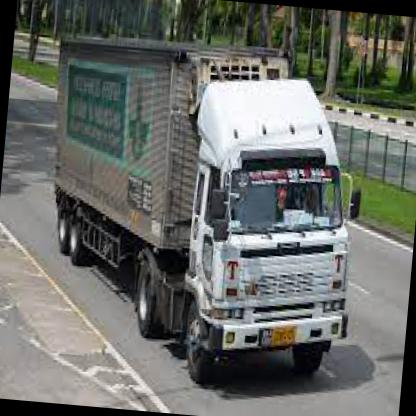truck: (174, 130, 363, 397)
